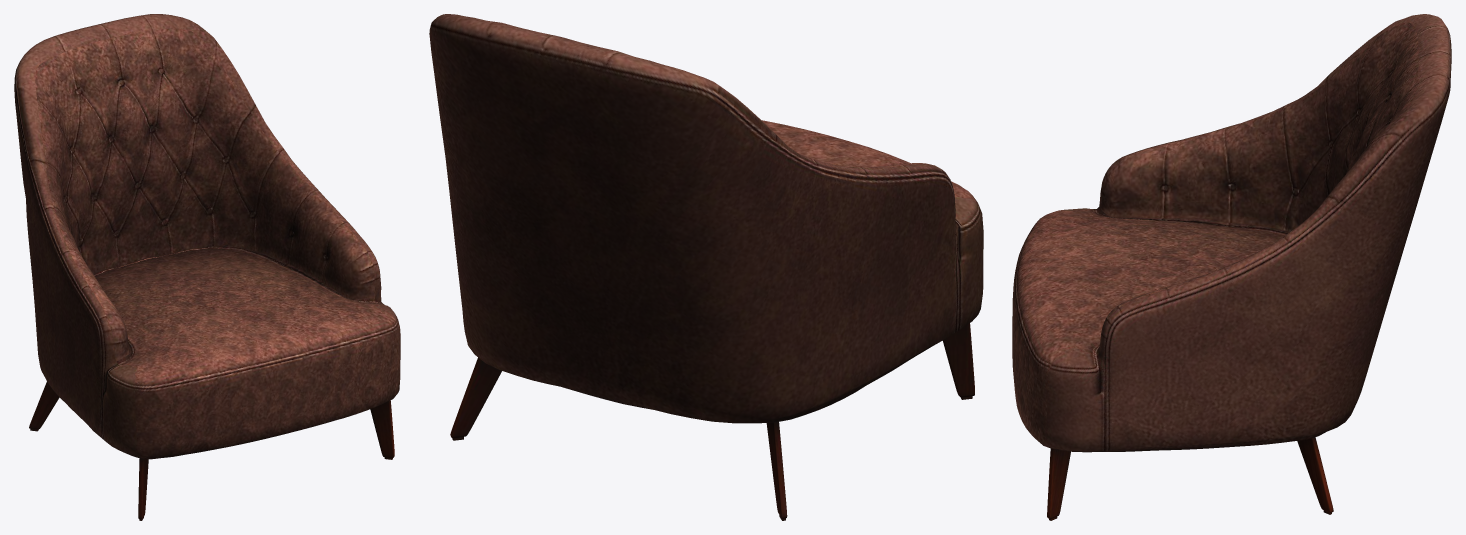
3 views of the same model, side by side, from view 1: azimuth 30°, elevation 25°; view 2: azimuth 150°, elevation 25°; view 3: azimuth 270°, elevation 25° (orthographic). The views are drawn at different scales.
Parts seen in each view (by area): view 1: chair_LP; view 2: chair_LP; view 3: chair_LP.
Boxes of the visible parts, x1,y1,x2,y2 form: chair_LP: (14,14,400,520); chair_LP: (429,14,983,520); chair_LP: (1012,14,1451,520).
Size of the model in its own units: 20.99 by 24.14 by 24.1.
1 material, 1 textured.
